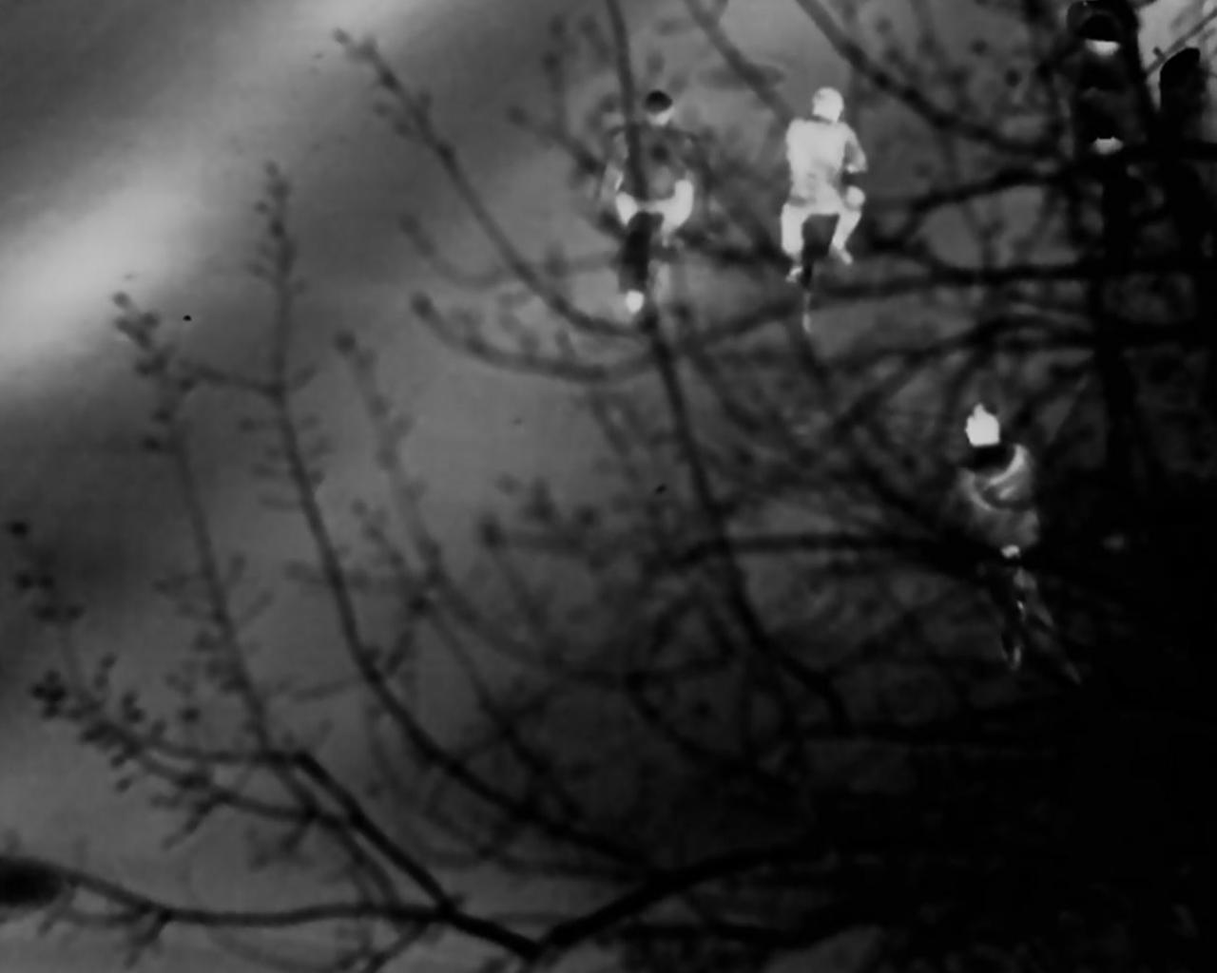person: (774, 84, 874, 273), (608, 94, 719, 258), (953, 396, 1044, 574)
